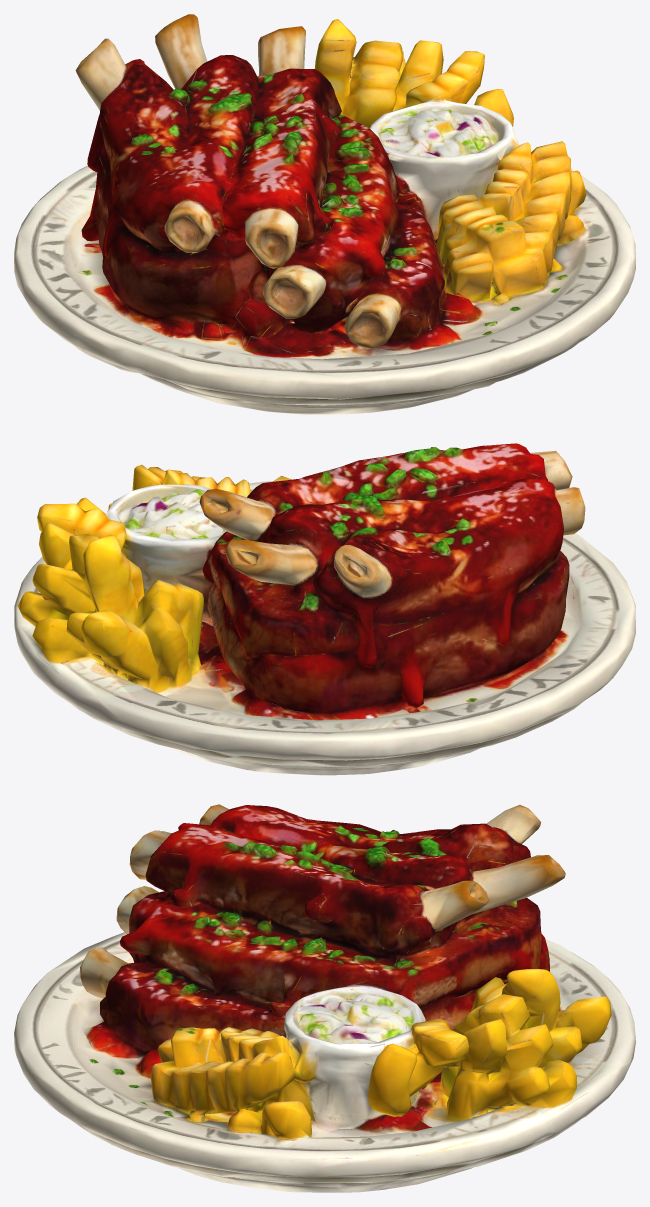
Rendered from ribs.glb.
3 renders of one model, top to bottom at view 1: azimuth 30°, elevation 25°; view 2: azimuth 150°, elevation 25°; view 3: azimuth 270°, elevation 25°, orthographic.
Visible parts, largest first — view 1: Mesh1.0; view 2: Mesh1.0; view 3: Mesh1.0.
Part boxes in pixels (left/top/right/bottom): Mesh1.0: left=14, top=14, right=635, bottom=414; Mesh1.0: left=14, top=443, right=635, bottom=775; Mesh1.0: left=14, top=804, right=635, bottom=1192.
Size of the model in its own units: 1.9 by 0.8038 by 1.9.
Materials: 1 (1 with a texture image).
